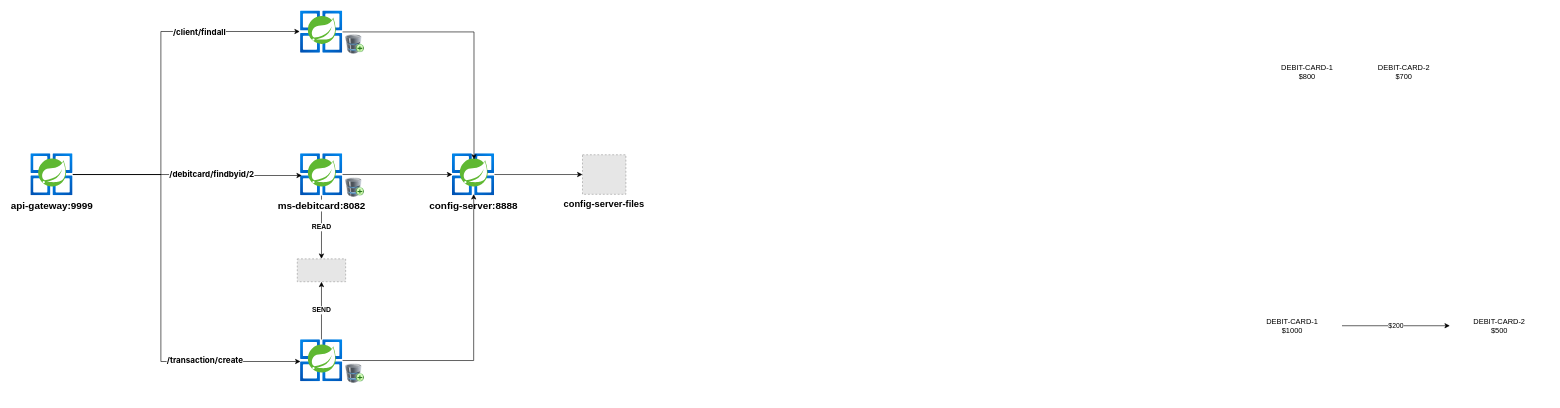
Some shapes in this 1560 by 408 pixel diagram are drawn without their labels. Grey dashed boxes stand in for pictures. The shapes that lost their labels are listed below. From the top down, each one's box as (x1, y1, x2, y2) in pixels, then its label:
(300, 11, 342, 53): ms-client:8081
(300, 339, 342, 381): ms-transaction:8083
